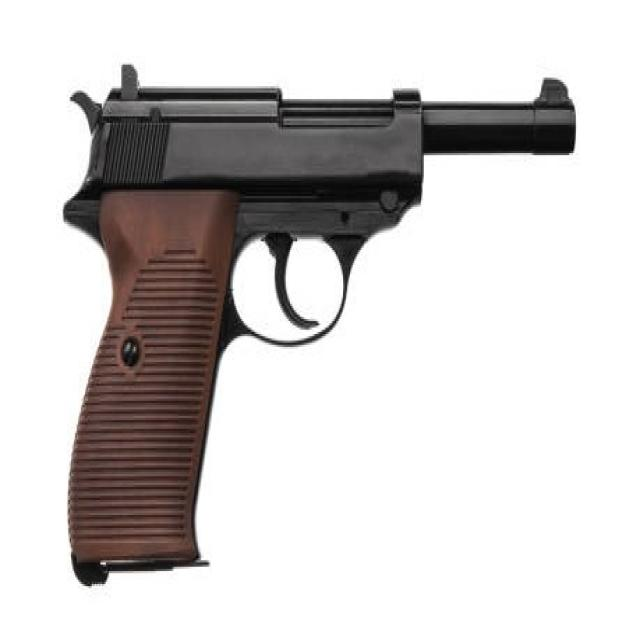pistol: (60, 57, 584, 595)
